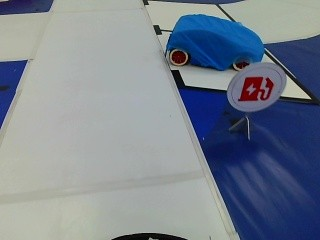battery: (236, 65, 278, 107)
car: (161, 10, 264, 71)
